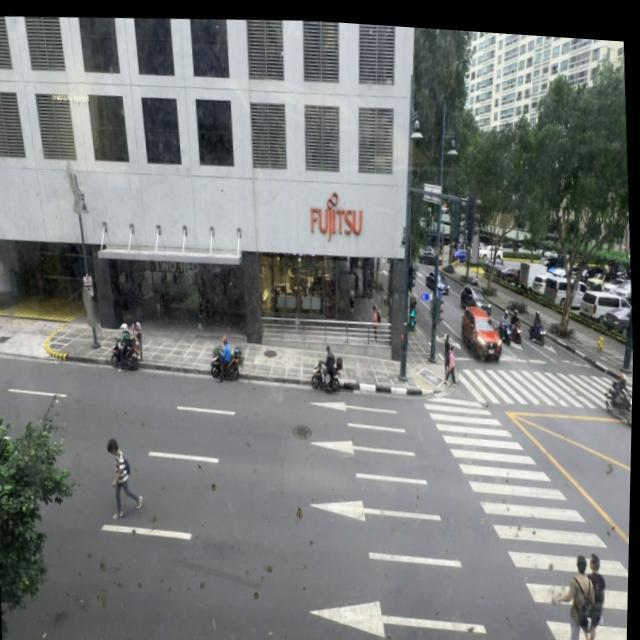jaywalking: (102, 436, 146, 522)
